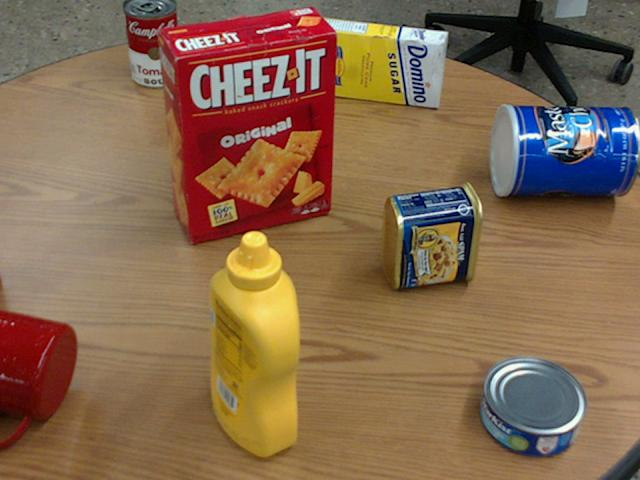cracker_box: (157, 8, 337, 242)
master_chef_can: (488, 104, 637, 196)
mug: (0, 307, 76, 444)
mustard_bottle: (209, 230, 297, 456)
potted_meat_can: (381, 181, 482, 289)
sugar_box: (308, 16, 449, 106)
tomato_soup_can: (123, 0, 181, 87)
tuna_fish_can: (478, 355, 583, 454)
